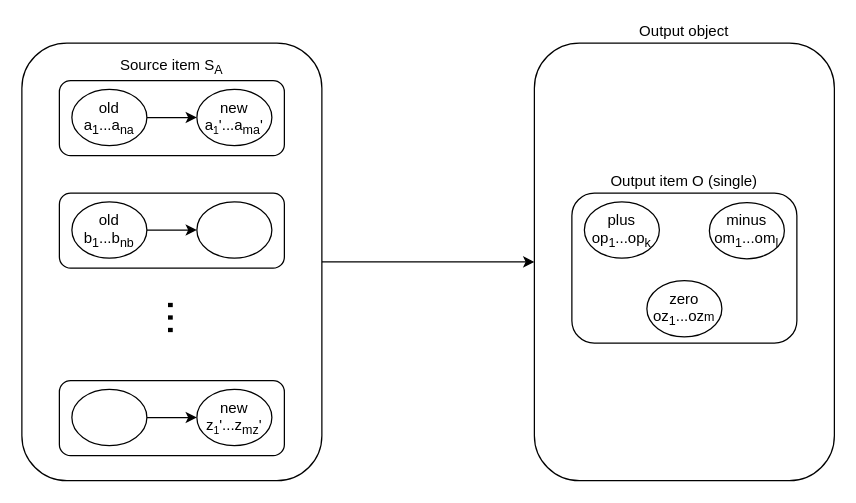
This 856x503 diagram has some shape labels left out. Here are the shapes that lost their labels. From the top down, the box of each, then its label:
(58, 192, 284, 268): Source item S B
(196, 201, 272, 258): new b 1 '...b mb '
(21, 42, 322, 481): Input object
(71, 388, 147, 446): old z 1 ...z nz
(58, 379, 284, 456): Source item S Z
